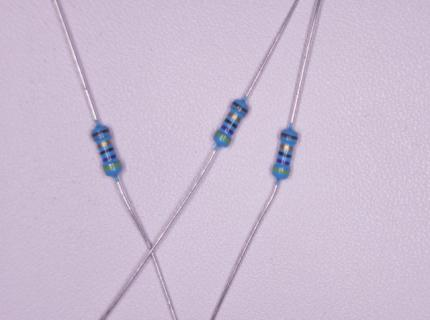Gold band: (227, 111, 242, 123), (97, 138, 112, 149), (279, 143, 294, 151)
Violet band: (220, 124, 234, 136), (102, 154, 117, 163), (276, 157, 290, 166)
Yellow band: (214, 131, 231, 145), (103, 162, 122, 173), (272, 166, 290, 175)
